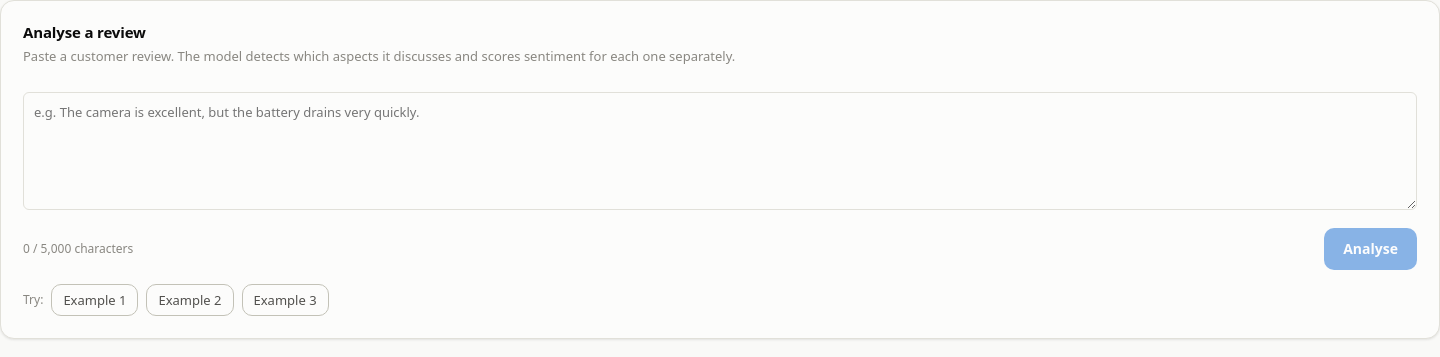
Test: submission › fills the textarea from an example button
Expected: the text box named "review text" is empty, [23,92,1417,210]
Click the button "Example 1" at (95, 300), box [51,284,138,316]
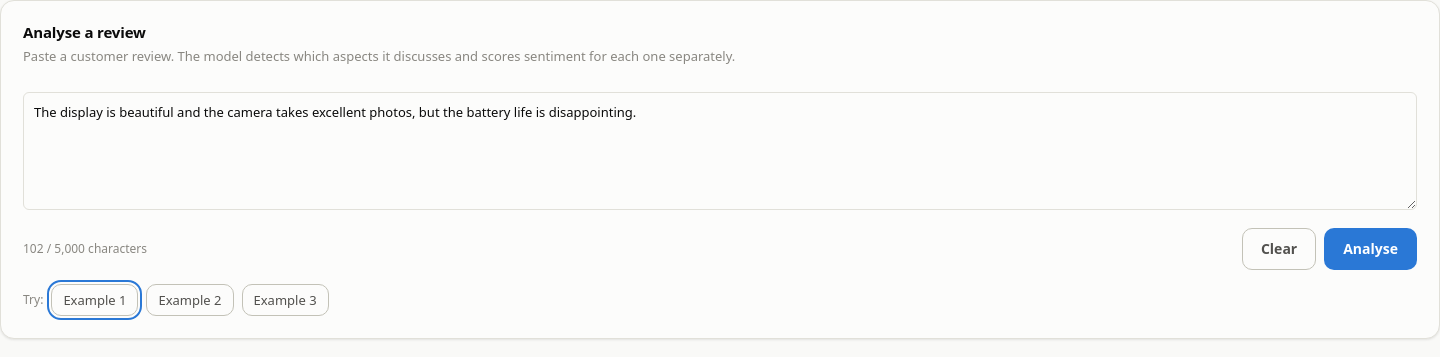
Result: the button "Analyse" is enabled at [1324,228,1417,270]
